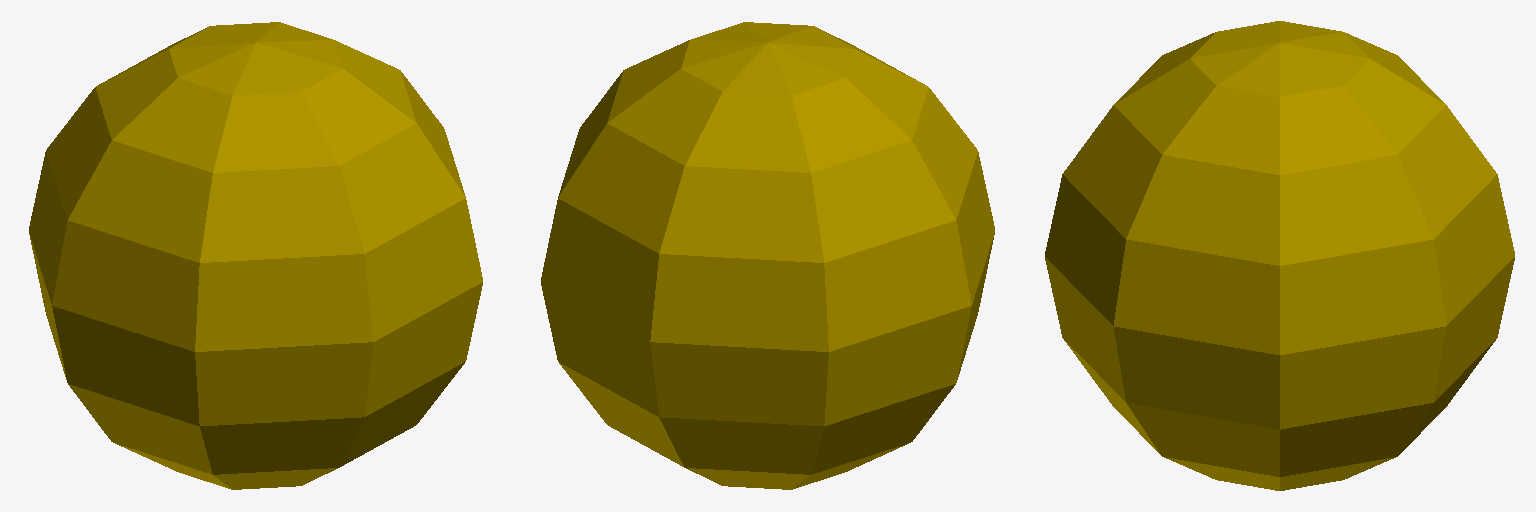
The model's file is gold-sphere.obj.
The picture shows the model from 3 angles: view 1: azimuth 30°, elevation 25°; view 2: azimuth 150°, elevation 25°; view 3: azimuth 270°, elevation 25°; orthographic projection.
Visible parts, largest first — view 1: sphere; view 2: sphere; view 3: sphere.
Boxes of the visible parts, x1,y1,x2,y2 form: sphere: [29, 22, 482, 489]; sphere: [541, 22, 994, 489]; sphere: [1045, 21, 1514, 490].
Size of the model in its own units: 2 by 2 by 2.